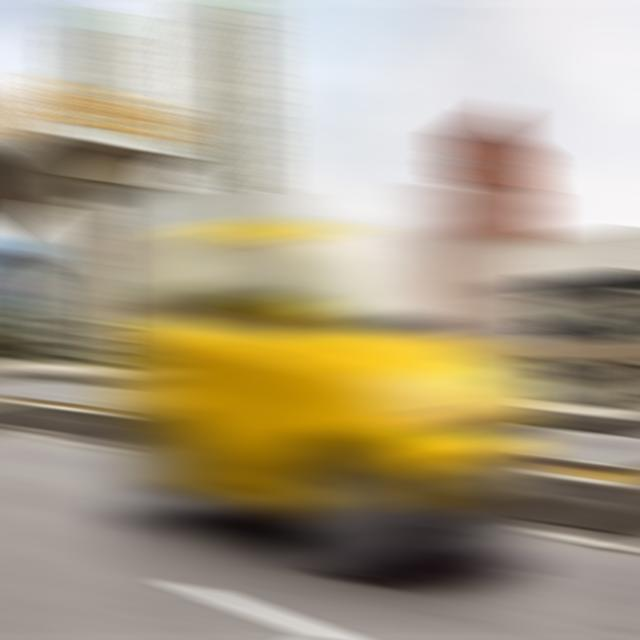Taxi: (99, 186, 549, 574)
